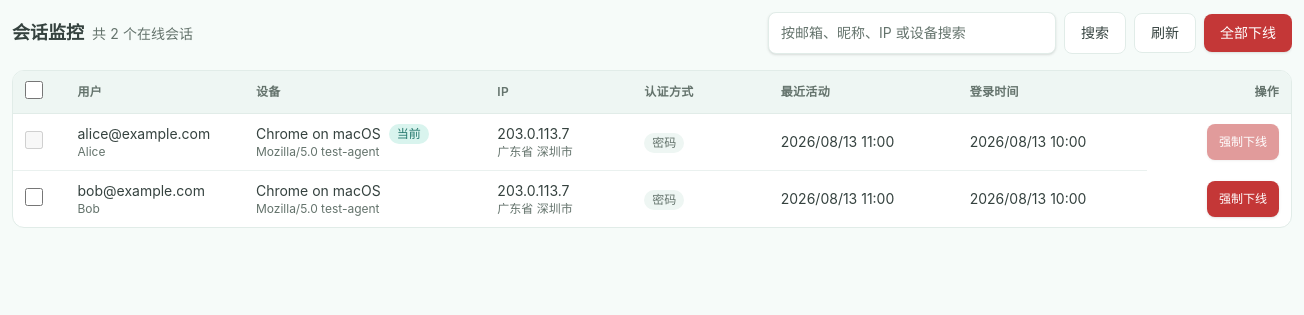
it: AdminSessionsPanel › 全选仅勾选非当前会话，当前会话不可勾选
Expected: the text "alice@example.com" is shown, left=78, top=124, right=232, bottom=144
Expected: the checkbox named "选择 alice@example.com" is disabled, left=25, top=130, right=43, bottom=148
Click the checkbox named "全选会话".
click(34, 90)  # box left=25, top=81, right=43, bottom=99
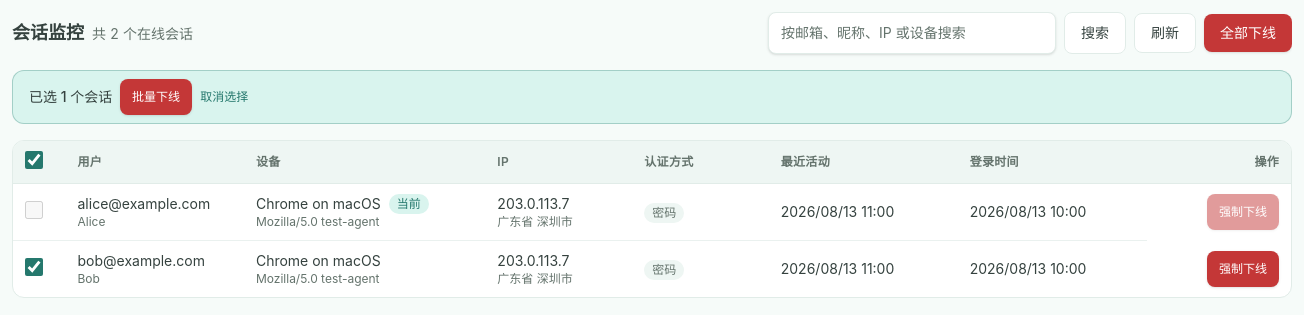
Expected: the checkbox named "选择 alice@example.com" is not checked, left=25, top=200, right=43, bottom=218
Now the text "已选 1 个会话" is shown, box left=29, top=87, right=112, bottom=107
Now the checkbox named "选择 bob@example.com" is checked, box left=25, top=258, right=43, bottom=276
